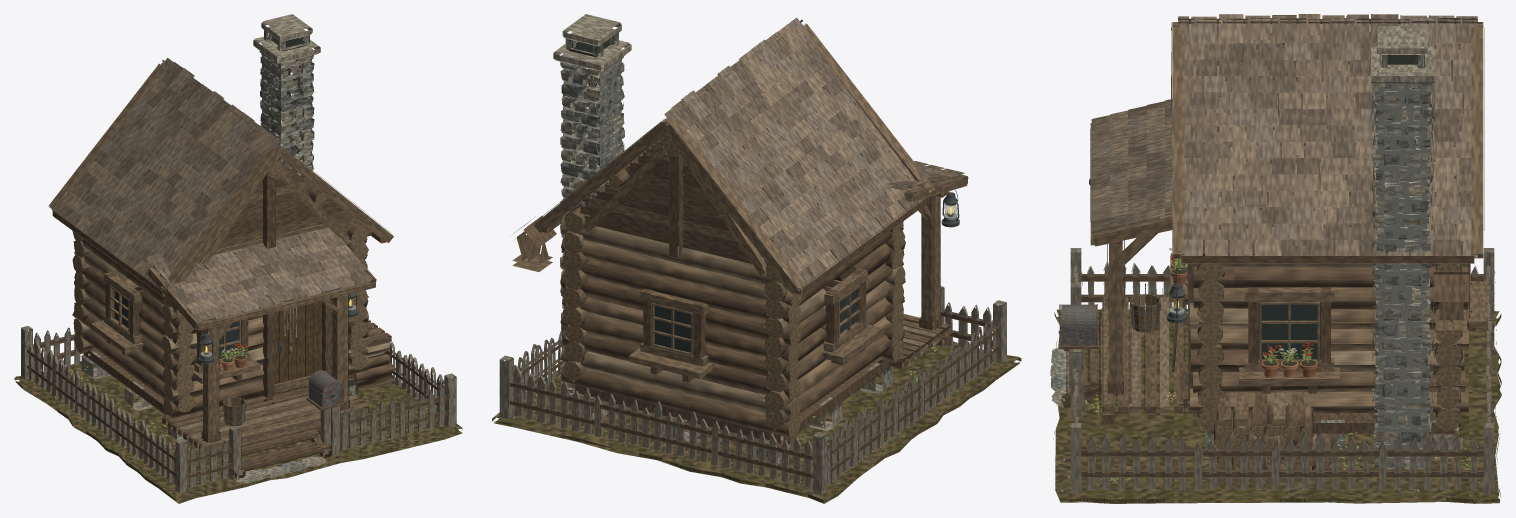
The model's file is sc_cabin.glb.
3 renders of one model, left to right at view 1: azimuth 30°, elevation 25°; view 2: azimuth 150°, elevation 25°; view 3: azimuth 270°, elevation 25°, orthographic. The views are drawn at different scales.
Parts seen in each view (by area): view 1: IndividualCedarRoofShingles, GardenPicketFence, InterlockingLogWalls, PorchCedarRoof, CabinDioramaPlinth, PorchDeckAndSteps, RidgeCappingAndFascia, EntranceDoor, GableBoarding, ChimneyFieldstones, PorchPostsAndBraces, LeftWindow (+10 smaller); view 2: InterlockingLogWalls, IndividualCedarRoofShingles, GardenPicketFence, CabinDioramaPlinth, RidgeCappingAndFascia, GableBoarding, ChimneyFieldstones, RearWindow, GableHeavyTimbers, LeftWindow, CabinFloor, ChimneyCrown (+7 smaller); view 3: IndividualCedarRoofShingles, InterlockingLogWalls, CabinDioramaPlinth, GardenPicketFence, ChimneyFieldstones, PorchCedarRoof, ChimneyMortarCore, RidgeCappingAndFascia, RightFlowerWindow, PorchDeckAndSteps, StackedFirewood, ChimneyCrown (+13 smaller).
Boxes of the visible parts, left/top/right/bottom form: IndividualCedarRoofShingles: left=52, top=58, right=290, bottom=290; GardenPicketFence: left=21, top=325, right=456, bottom=493; InterlockingLogWalls: left=72, top=223, right=369, bottom=418; PorchCedarRoof: left=146, top=223, right=376, bottom=330; CabinDioramaPlinth: left=14, top=361, right=462, bottom=503; PorchDeckAndSteps: left=162, top=389, right=368, bottom=479; RidgeCappingAndFascia: left=48, top=62, right=393, bottom=296; EntranceDoor: left=263, top=299, right=332, bottom=404; GableBoarding: left=204, top=159, right=371, bottom=257; ChimneyFieldstones: left=259, top=46, right=314, bottom=182; PorchPostsAndBraces: left=200, top=294, right=349, bottom=445; LeftWindow: left=91, top=272, right=143, bottom=355; InterlockingLogWalls: left=560, top=191, right=905, bottom=437; IndividualCedarRoofShingles: left=643, top=17, right=930, bottom=291; GardenPicketFence: left=499, top=286, right=1006, bottom=495; CabinDioramaPlinth: left=492, top=341, right=1021, bottom=503; RidgeCappingAndFascia: left=533, top=23, right=935, bottom=295; GableBoarding: left=572, top=135, right=767, bottom=266; ChimneyFieldstones: left=560, top=51, right=624, bottom=400; RearWindow: left=628, top=288, right=713, bottom=382; GableHeavyTimbers: left=583, top=137, right=766, bottom=275; LeftWindow: left=822, top=268, right=883, bottom=365; CabinFloor: left=574, top=324, right=889, bottom=445; ChimneyCrown: left=553, top=14, right=631, bottom=71; IndividualCedarRoofShingles: left=1178, top=14, right=1477, bottom=257; InterlockingLogWalls: left=1188, top=263, right=1468, bottom=431; CabinDioramaPlinth: left=1053, top=309, right=1501, bottom=503; GardenPicketFence: left=1070, top=248, right=1495, bottom=493; ChimneyFieldstones: left=1370, top=73, right=1434, bottom=468; PorchCedarRoof: left=1090, top=99, right=1172, bottom=246; ChimneyMortarCore: left=1378, top=83, right=1427, bottom=467; RidgeCappingAndFascia: left=1171, top=22, right=1484, bottom=263; RightFlowerWindow: left=1239, top=287, right=1339, bottom=393; PorchDeckAndSteps: left=1061, top=297, right=1197, bottom=425; StackedFirewood: left=1208, top=393, right=1333, bottom=484; ChimneyCrown: left=1371, top=26, right=1434, bottom=83.
Bounding box in the file's own units: 6.07 × 6.52 × 6.12.
41 materials, 19 textured.
